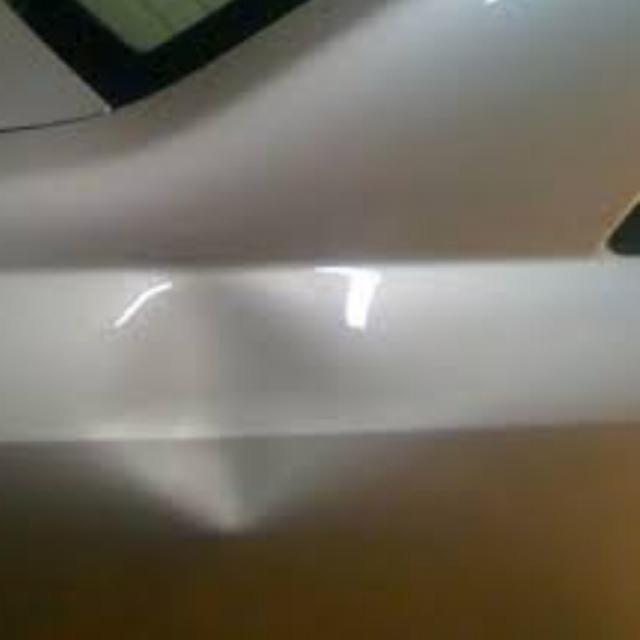dents: (74, 284, 406, 536)
